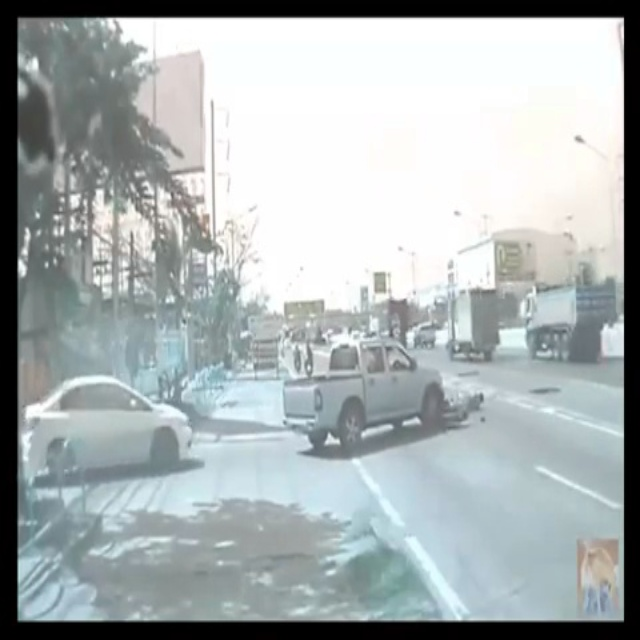acc: (278, 339, 488, 460)
